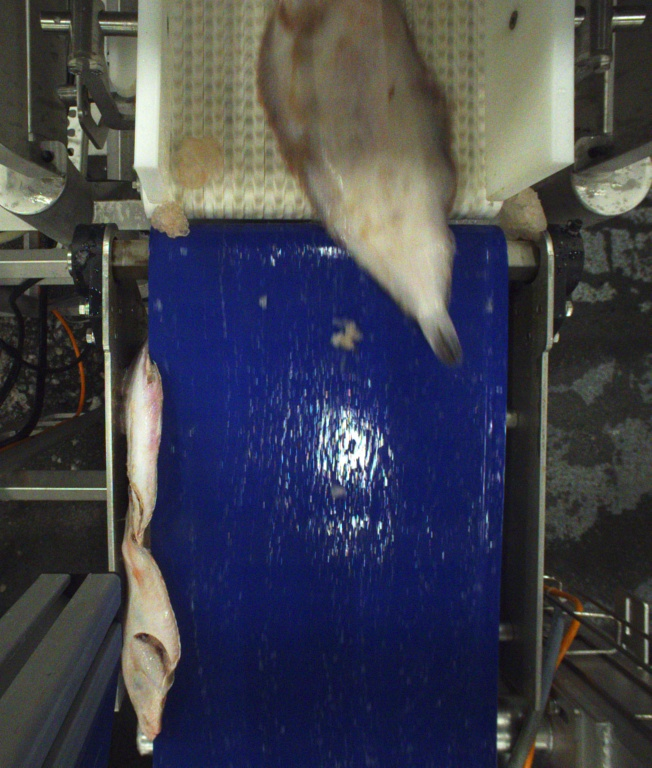SOL: (253, 0, 470, 370)
